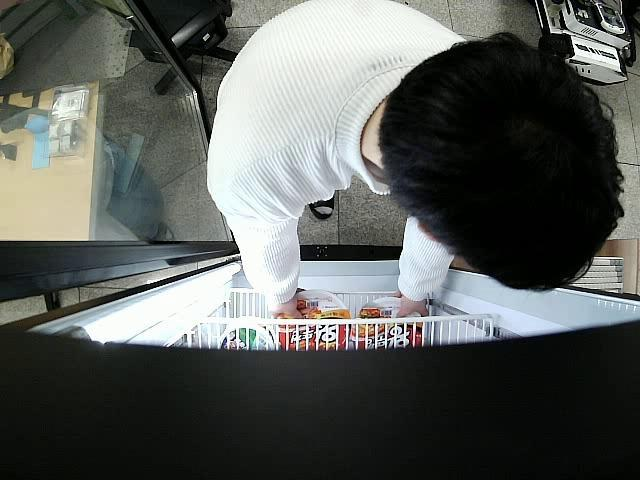10_wangTtukkeong: (278, 289, 351, 352), (352, 297, 427, 352)
